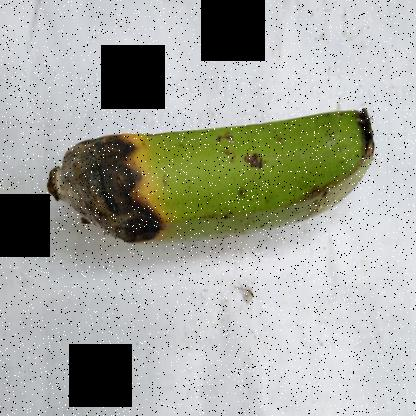rotten: (34, 118, 187, 265)
unripe: (164, 76, 389, 263)
